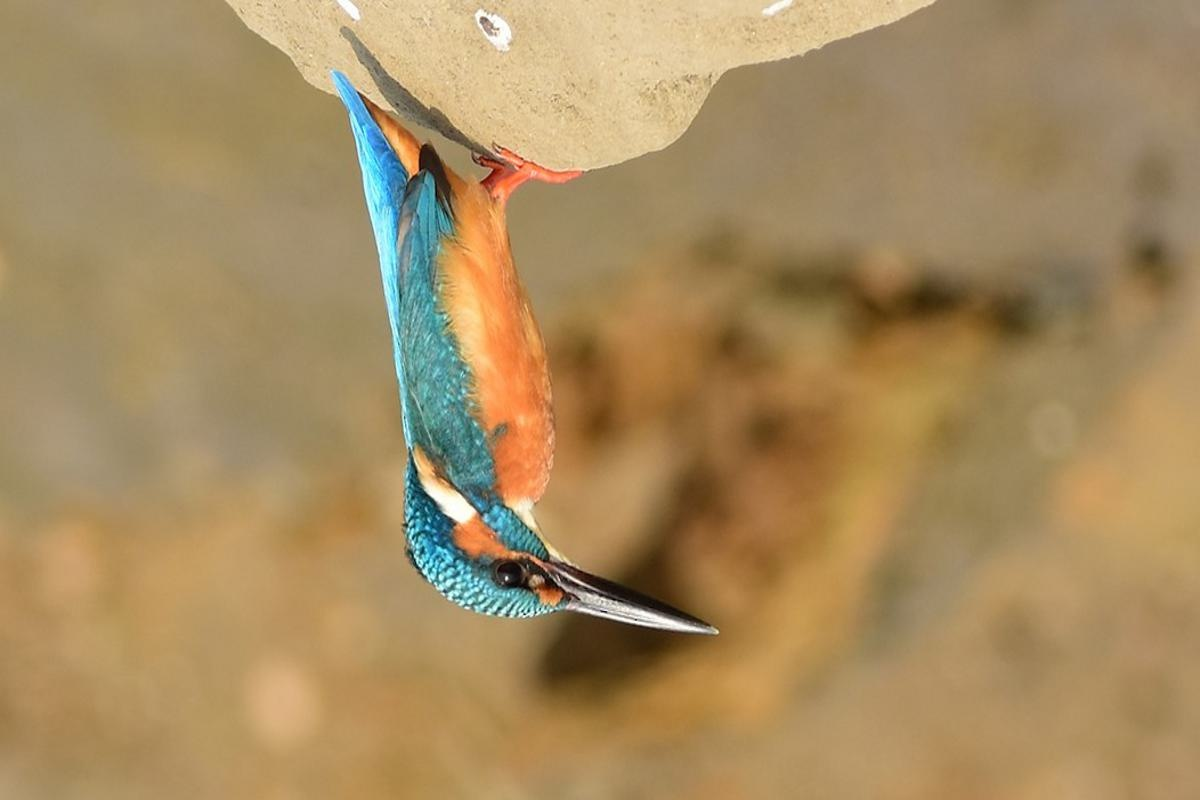kingfisher: (329, 72, 731, 651)
